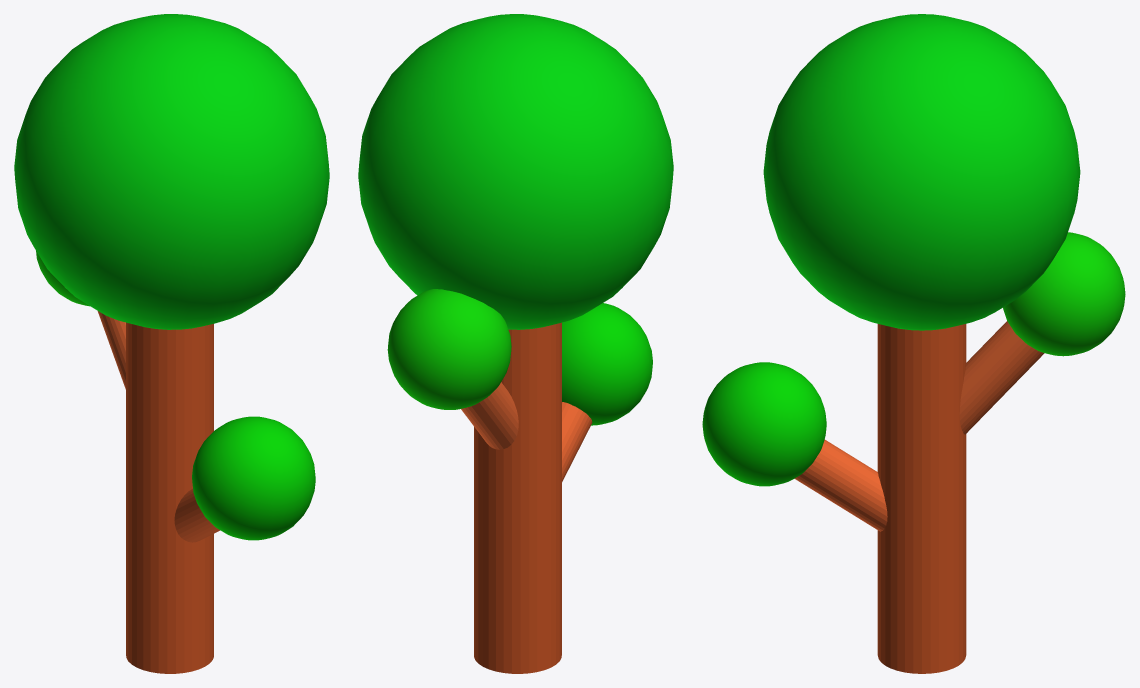
The model's file is drzewo (1).fbx.
The picture shows the model from 3 angles, left to right: view 1: azimuth 30°, elevation 25°; view 2: azimuth 150°, elevation 25°; view 3: azimuth 270°, elevation 25°; orthographic projection.
Parts seen in each view (by area): view 1: Sphere; view 2: Sphere; view 3: Sphere.
Boxes of the visible parts, x1,y1,x2,y2 form: Sphere: (14,14,329,673); Sphere: (358,14,673,673); Sphere: (702,14,1125,673).
Bounding box in the file's own units: 252 × 551 × 337.
